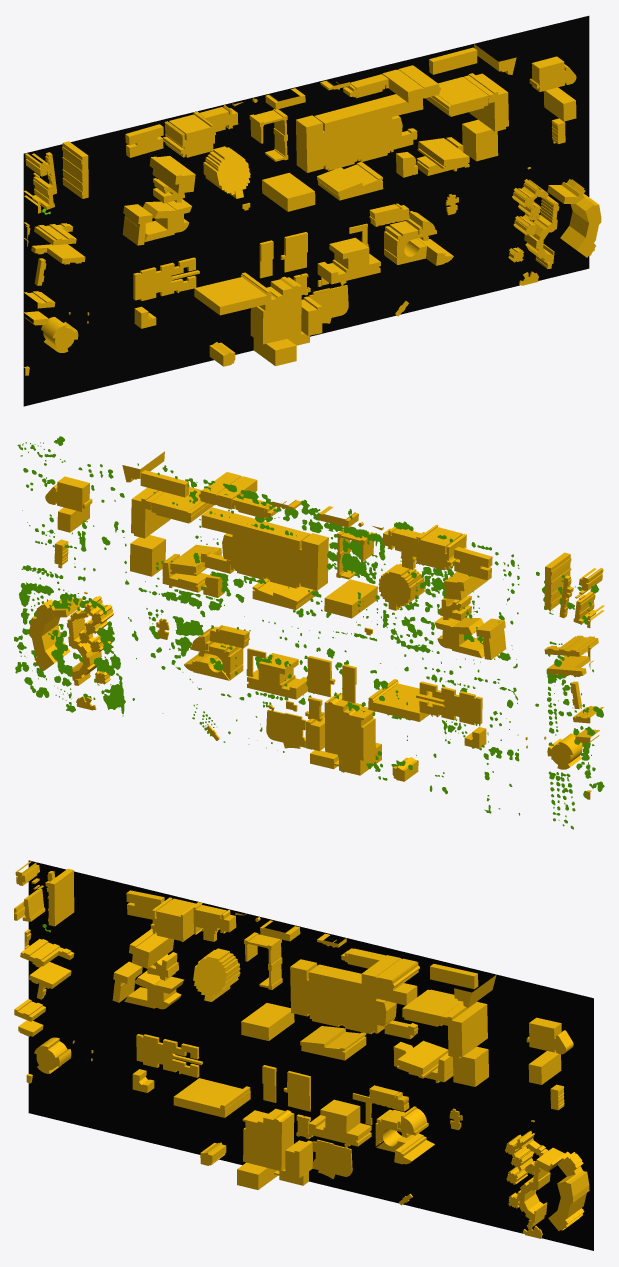
Rendered from existing_buildings_08.glb.
The picture shows the model from 3 angles, top to bottom: view 1: azimuth 30°, elevation 25°; view 2: azimuth 150°, elevation 25°; view 3: azimuth 330°, elevation 25°; orthographic projection.
Parts seen in each view (by area): view 1: Layer 04, existing_building, existing_building - Copy; view 2: existing_building, treesurface, existing_building - Copy; view 3: Layer 04, existing_building, existing_building - Copy.
Part boxes in pixels (bbox=[...]): Layer 04: bbox=[23, 16, 589, 406]; existing_building: bbox=[24, 44, 601, 375]; existing_building - Copy: bbox=[31, 74, 585, 323]; existing_building: bbox=[29, 451, 604, 799]; treesurface: bbox=[14, 436, 604, 829]; existing_building - Copy: bbox=[35, 495, 586, 748]; Layer 04: bbox=[28, 860, 593, 1250]; existing_building: bbox=[14, 861, 589, 1230]; existing_building - Copy: bbox=[32, 871, 583, 1238].
Size of the model in its own units: 1035 by 458 by 78.19.
